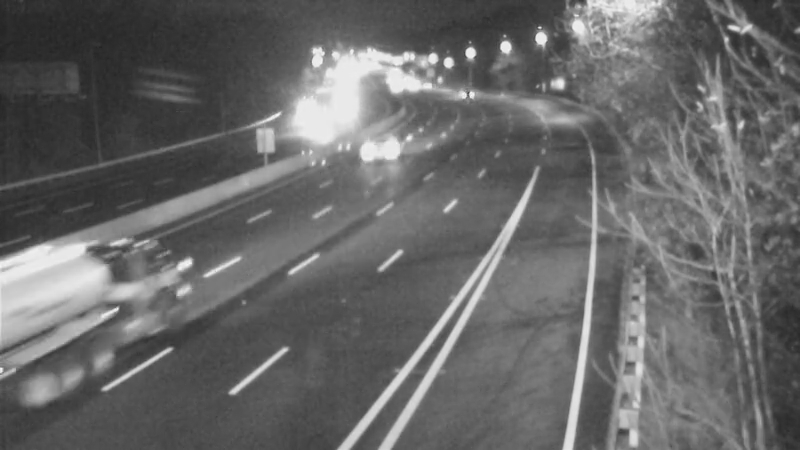vehicle: (442, 66, 492, 116), (363, 122, 413, 172), (286, 101, 336, 151)
